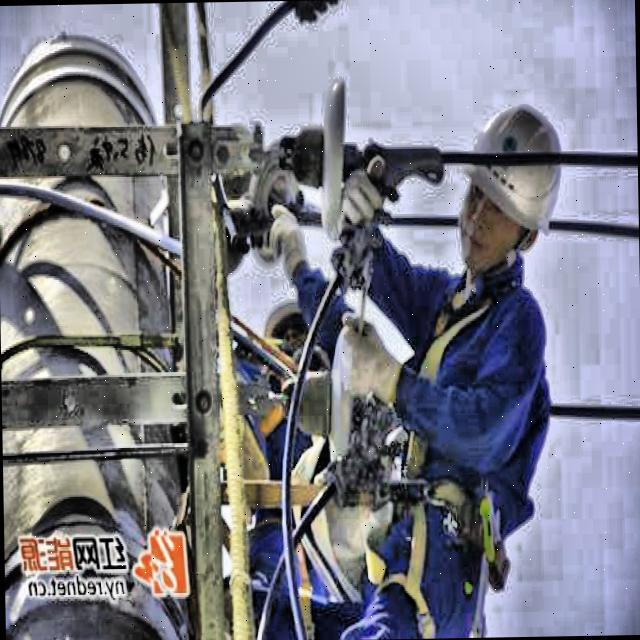helmet: (448, 100, 561, 271)
